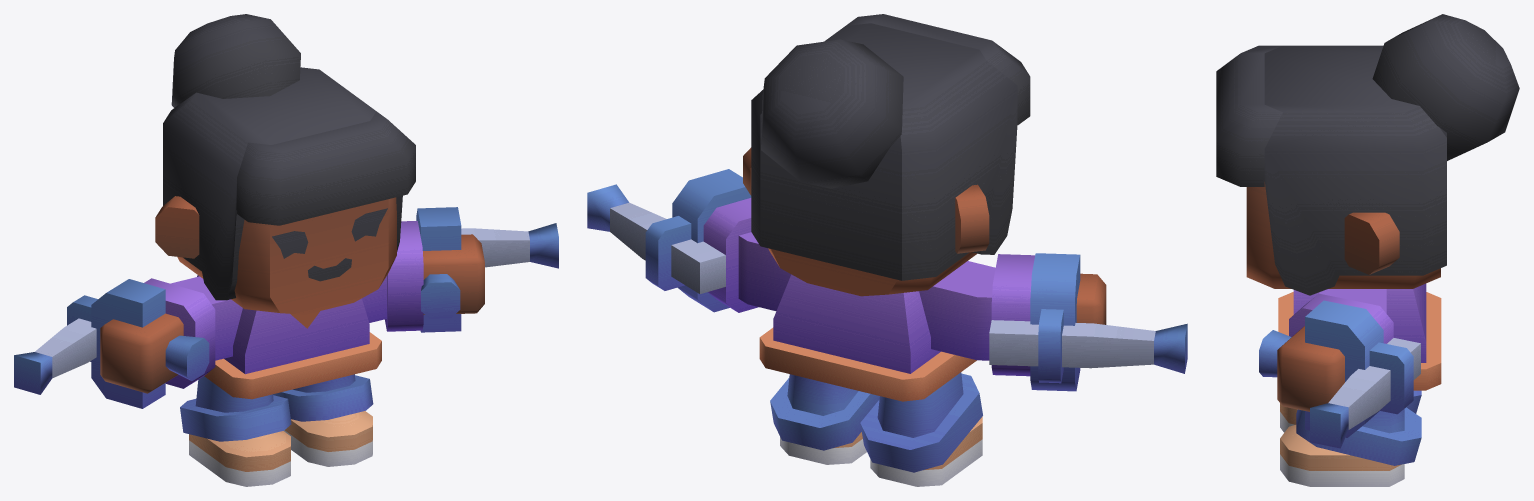
Rendered from character-female-a.glb.
The picture shows the model from 3 angles, left to right: view 1: azimuth 30°, elevation 25°; view 2: azimuth 150°, elevation 25°; view 3: azimuth 270°, elevation 25°; orthographic projection. The views are drawn at different scales.
Visible parts, largest first — view 1: body-mesh, head-mesh; view 2: body-mesh, head-mesh; view 3: head-mesh, body-mesh.
Boxes of the visible parts, x1=… form: body-mesh: x1=14, y1=207, x2=558, y2=486; head-mesh: x1=155, y1=14, x2=415, y2=314; body-mesh: x1=587, y1=169, x2=1187, y2=486; head-mesh: x1=743, y1=14, x2=1030, y2=296; head-mesh: x1=1216, y1=14, x2=1519, y2=295; body-mesh: x1=1259, y1=283, x2=1441, y2=486.
Bounding box in the file's own units: 1.1 × 0.7755 × 0.4995.
Materials: 1 (1 with a texture image).
